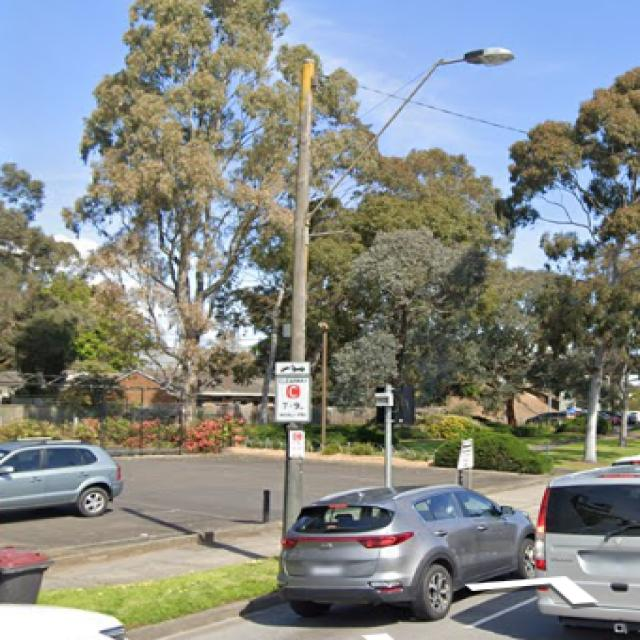streetlight: (304, 47, 515, 220)
timber-pole: (282, 57, 317, 544)
